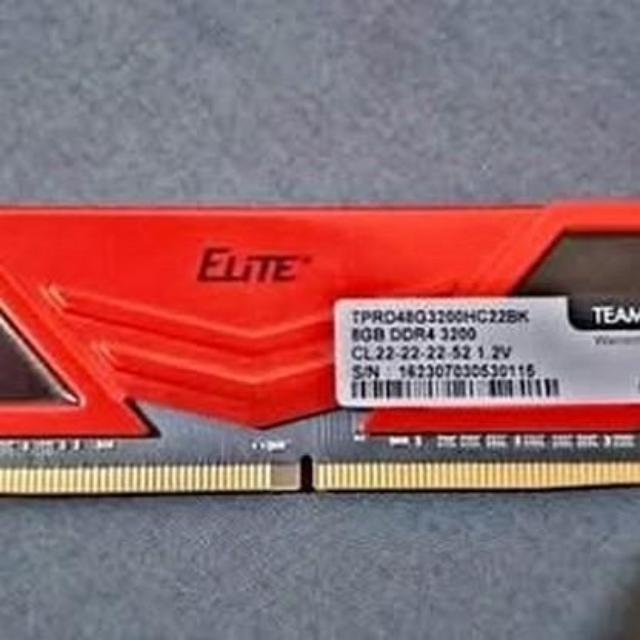RAM: (0, 194, 640, 496)
